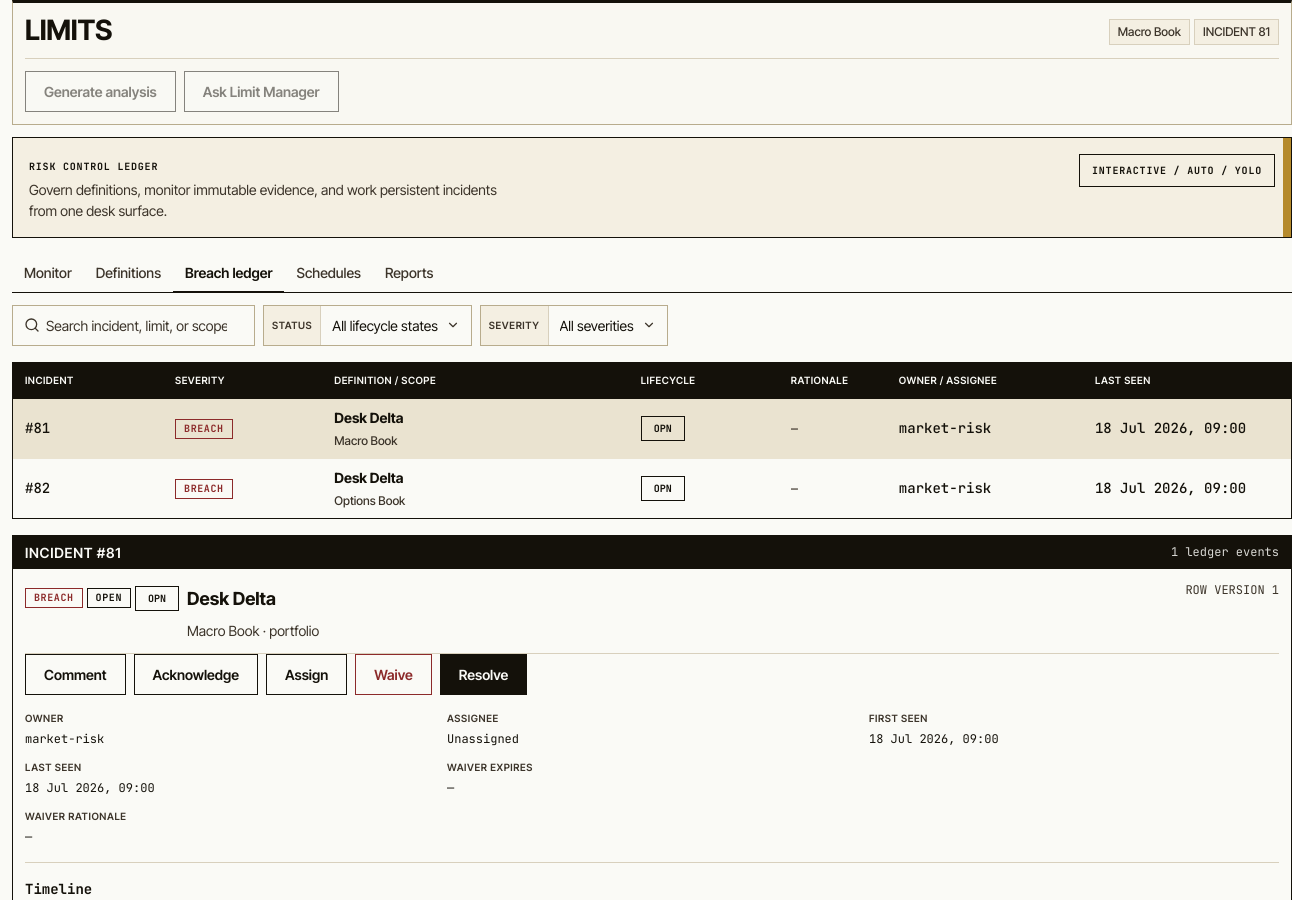
Test case: LimitsLive breaches › does not let an incident mutation overwrite a newer selection
Click the button "Acknowledge" at (196, 674), box [134,654,258,695]
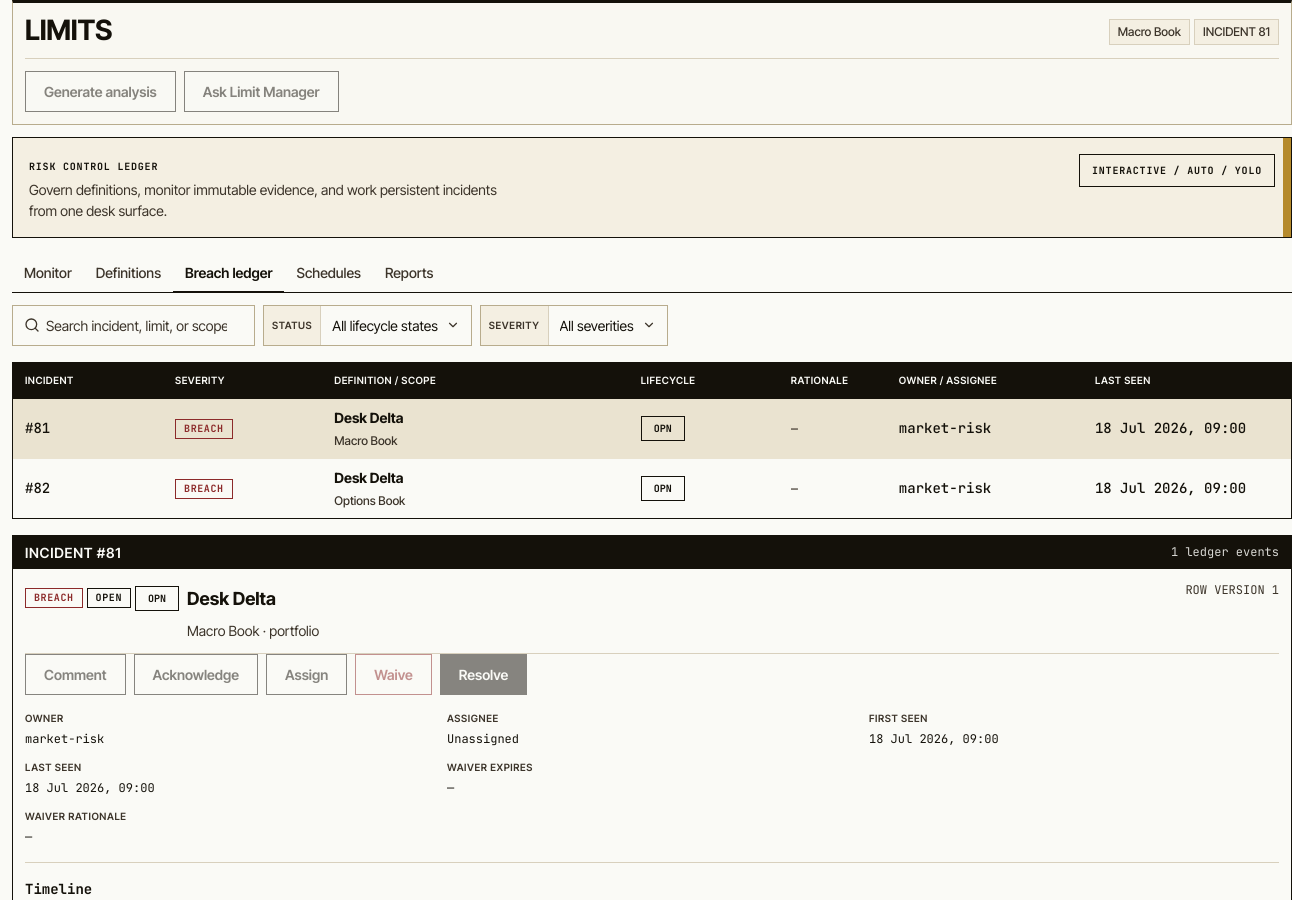
Click the text "#82" at (652, 488), box [13,459,1291,518]
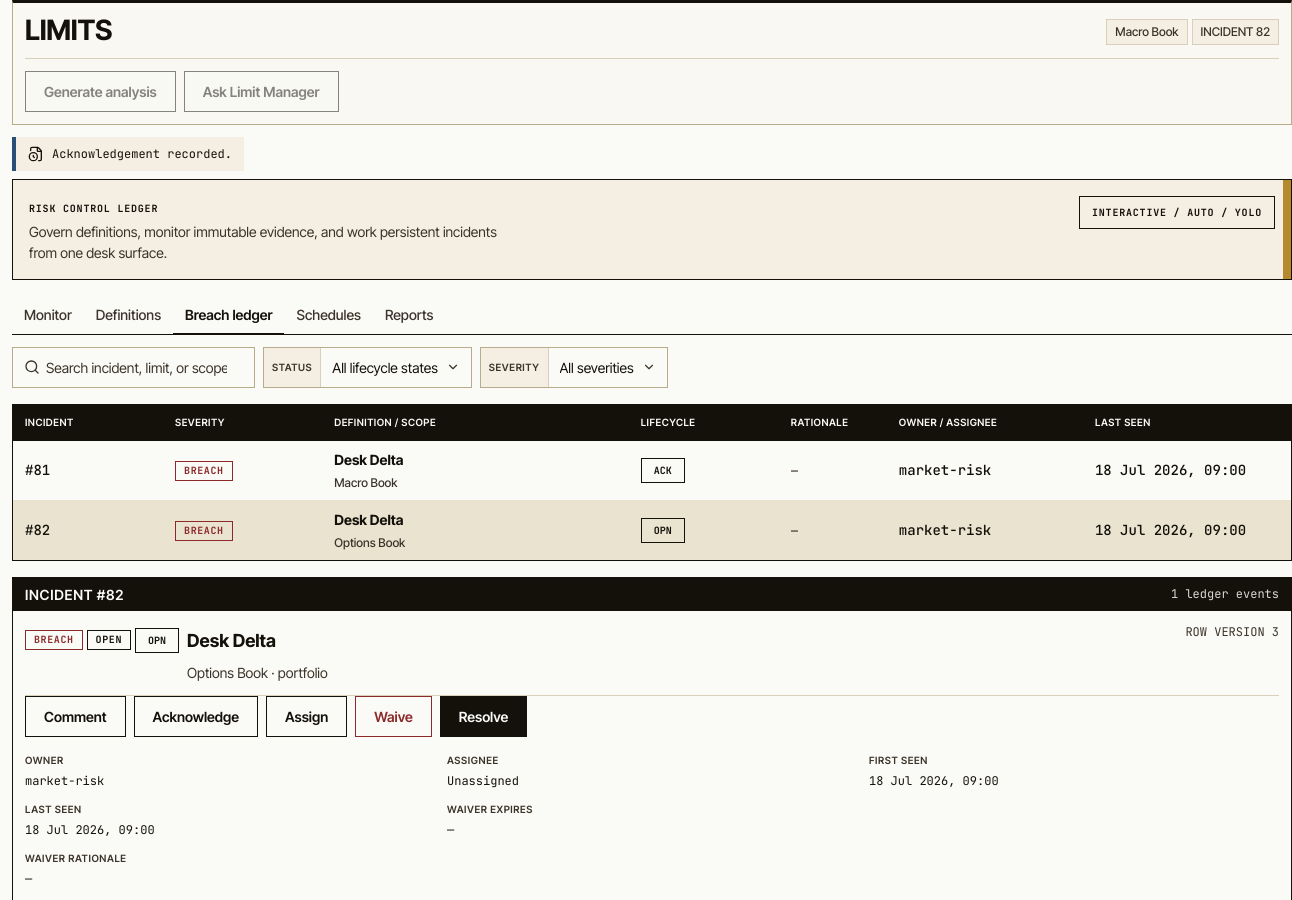
Expected: the text "Incident #82" is shown, [25,584,124,605]
Expected: the text "ROW VERSION 3" is shown, [1185,623,1279,641]
Expected: the text "Incident #81" is gone
